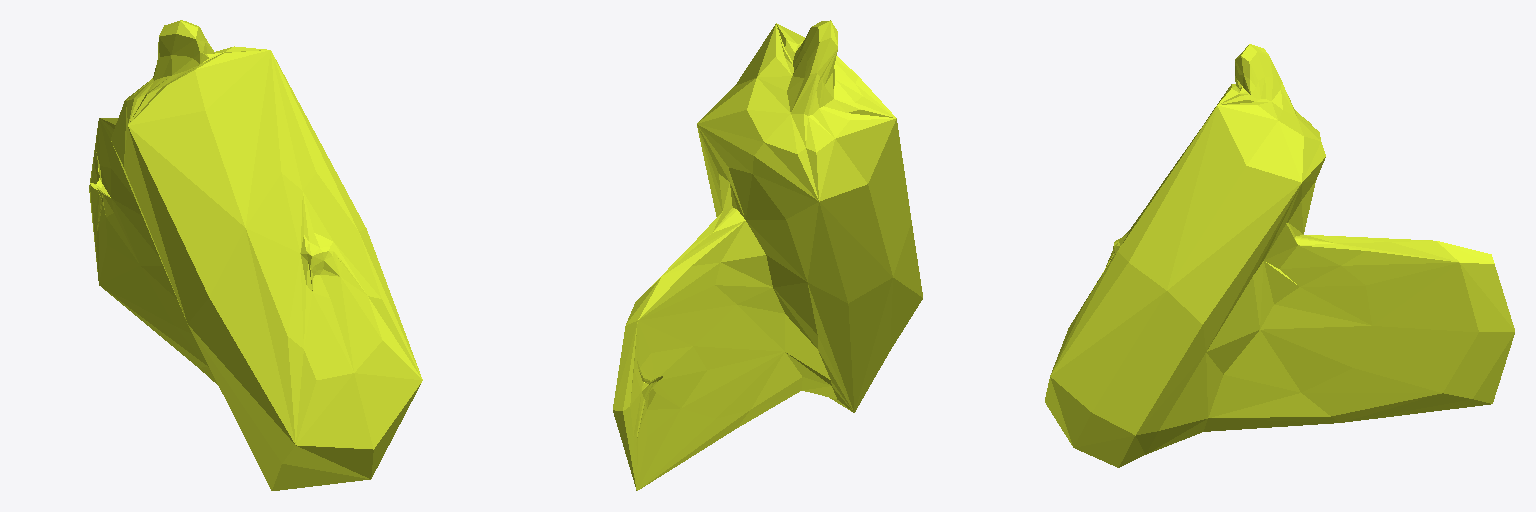
robot.urdf — blob644:

<robot name="blob644">
  <link name="random_obj_644">
    <contact>
      <lateral_friction value="1.0"/>
      <rolling_friction value="0.0"/>
      <inertia_scaling value="3.0"/>
      <contact_cfm value="0.0"/>
      <contact_erp value="1.0"/>
    </contact>
    <inertial>
      <origin rpy="0 0 0" xyz="0 0 0"/>
      <mass value="0.0561"/>
      <inertia ixx="1" ixy="0" ixz="0" iyy="1" iyz="0" izz="0"/>
    </inertial>
    <visual>
      <origin rpy="0 0 0" xyz="0 0 0"/>
      <geometry>
        <mesh filename="644.obj" scale="0.0091 0.0091 0.0091"/>
      </geometry>
      <material name="blockmat">
        <color rgba="0.90 0.97 0.25 1"/>
      </material>
    </visual>
    <collision>
      <origin rpy="0 0 0" xyz="0 0 0"/>
      <geometry>
        <mesh filename="644_coll.obj" scale="0.0091 0.0091 0.0091"/>
      </geometry>
    </collision>
  </link>
</robot>

--- What the picture shows (computed from the rendered views, not written in the file) ---
The picture shows the robot from 3 angles, left to right: view 1: azimuth 30°, elevation 25°; view 2: azimuth 150°, elevation 25°; view 3: azimuth 270°, elevation 25°; orthographic projection.
Model blob644 with 1 links and 0 joints (none), rooted at random_obj_644, posed every joint at zero.
Visible links, largest first — view 1: random_obj_644; view 2: random_obj_644; view 3: random_obj_644.
Link boxes in pixels (box(x1,y1,x2,y2)): random_obj_644: box(89, 20, 422, 490); random_obj_644: box(613, 20, 922, 490); random_obj_644: box(1045, 44, 1514, 467).
Bounding box of the posed robot: 0.057 × 0.1279 × 0.1167 m (x, y, z).
Meshes: 1 distinct files referenced, 1 mesh visuals loaded (1 OBJ).
